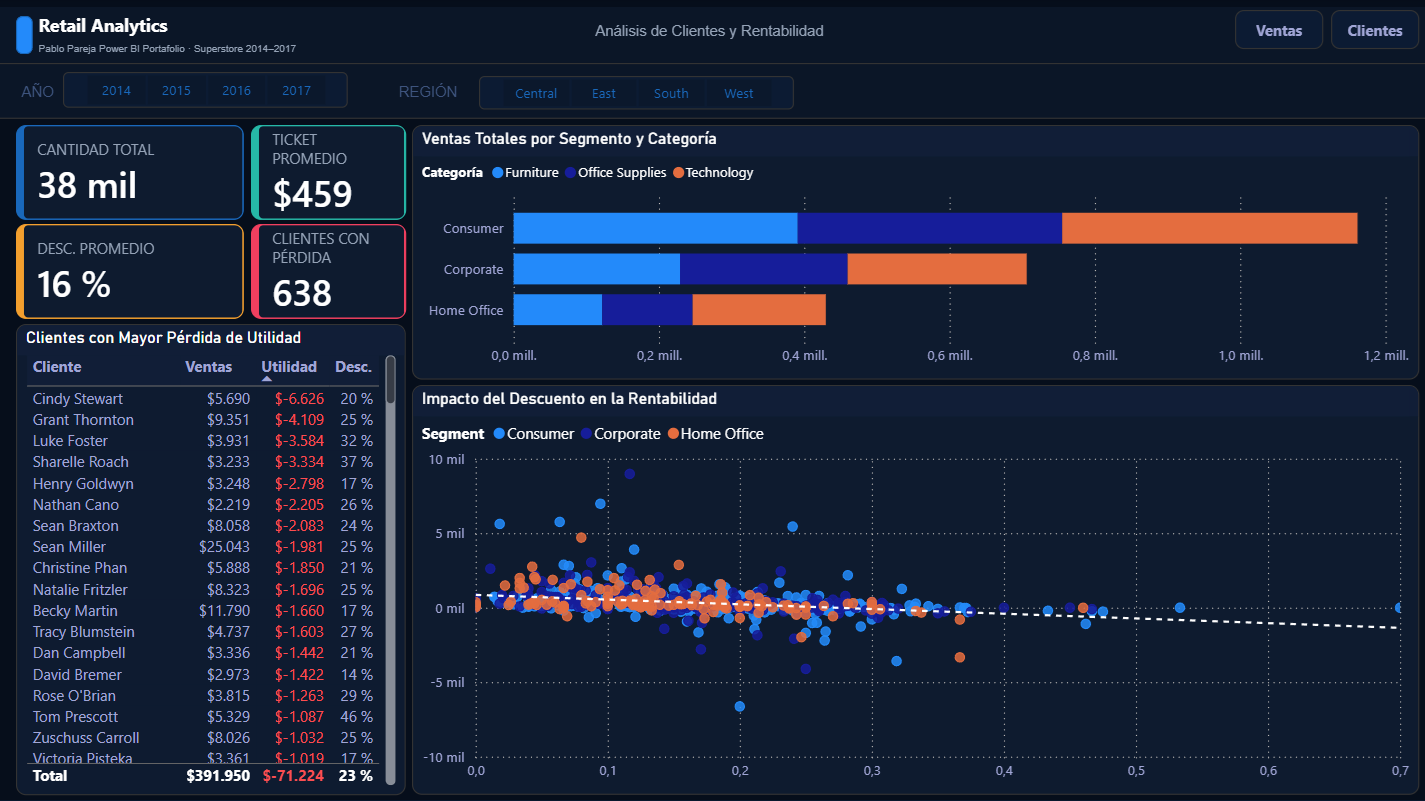

What the dashboard file says about the page in this screenshot:
{"tool":"powerbi","page":{"name":"Análisis de Clientes","canvas":[1280,720],"ordinal":2},"visuals":[{"type":"group","id":"g1","title":"Grupo 1","box":[0,0,1279.7,720],"z":0},{"type":"shape","box":[0,0,1279.7,720],"z":0,"group":"g1"},{"type":"shape","box":[0,7.8,1280,50],"z":1000},{"type":"actionButton","title":"Ventas","box":[1107.8,10.7,78.8,34.9],"z":2000},{"type":"shape","box":[0,7.8,1280,50],"z":2500,"group":"g1"},{"type":"actionButton","title":"Ventas","box":[1193.7,10.7,78.8,34.9],"z":3000},{"type":"shape","box":[0,57.8,1280,50],"z":4000},{"type":"textbox","box":[31.1,7.8,140,50],"z":5000},{"type":"slicer","fields":{"Values":["DimCalendario.Año"]},"box":[58.2,66.3,255.2,32.2],"z":6000},{"type":"slicer","fields":{"Values":["DimRegion.Region"]},"box":[430.7,69.9,282.1,30.4],"z":7000},{"type":"textbox","box":[0,70,71.1,31.1],"z":8000},{"type":"shape","box":[15.8,15.8,15,34.2],"z":9000},{"type":"textbox","box":[459.4,15.2,355.5,34.9],"z":10000},{"type":"textbox","box":[344.8,69.9,80.6,31.3],"z":11000},{"type":"scatterChart","title":"Impacto del Descuento en la Rentabilidad","fields":{"X":["_Medidas.Descuento Promedio"],"Y":["_Medidas.Utilidad Bruta"],"Category":["DimCliente.Customer Name"],"Series":["DimCliente.Segment"]},"box":[370.7,346.6,901.8,367.2],"z":14000},{"type":"tableEx","title":"Clientes con Mayor Pérdida de Utilidad","fields":{"Values":["DimCliente.Customer Name","_Medidas.Ventas Totales","_Medidas.Utilidad Bruta","_Medidas.Descuento Promedio"]},"box":[16.1,291.9,349.3,421.8],"z":15000},{"type":"cardVisual","fields":{"Data":["_Medidas.Cantidad Total"]},"box":[16.1,113.7,204.2,85.1],"z":16000},{"type":"cardVisual","fields":{"Data":["_Medidas.Ticket Promedio"]},"box":[226.6,113.7,138.8,85.1],"z":17000},{"type":"cardVisual","fields":{"Data":["_Medidas.Clientes con Pérdida"]},"box":[226.6,202.4,138.8,85.1],"z":18000},{"type":"cardVisual","fields":{"Data":["_Medidas.Descuento Promedio"]},"box":[16.1,202.4,204.2,85.1],"z":19000},{"type":"barChart","fields":{"Category":["DimCliente.Segment"],"Y":["_Medidas.Ventas Totales"],"Series":["DimProducto.Category"]},"box":[370.7,113.7,901.8,228.4],"z":20000}]}

Visuals, with their boxes in screenshot pixels (x1, y1, x2, y2), scaled from the page's 1280x720 canvas onto the 1425x801 screenshot:
"Grupo 1" group: {"left": 0, "top": 0, "right": 1424, "bottom": 800}
shape: {"left": 0, "top": 0, "right": 1424, "bottom": 800}
shape: {"left": 0, "top": 9, "right": 1424, "bottom": 64}
"Ventas" actionButton: {"left": 1233, "top": 12, "right": 1321, "bottom": 51}
shape: {"left": 0, "top": 9, "right": 1424, "bottom": 64}
"Ventas" actionButton: {"left": 1329, "top": 12, "right": 1417, "bottom": 51}
shape: {"left": 0, "top": 64, "right": 1424, "bottom": 120}
textbox: {"left": 35, "top": 9, "right": 190, "bottom": 64}
slicer - DimCalendario.Año: {"left": 65, "top": 74, "right": 349, "bottom": 110}
slicer - DimRegion.Region: {"left": 479, "top": 78, "right": 794, "bottom": 112}
textbox: {"left": 0, "top": 78, "right": 79, "bottom": 112}
shape: {"left": 18, "top": 18, "right": 34, "bottom": 56}
textbox: {"left": 511, "top": 17, "right": 907, "bottom": 56}
textbox: {"left": 384, "top": 78, "right": 474, "bottom": 113}
"Impacto del Descuento en la Rentabilidad" scatterChart: {"left": 413, "top": 386, "right": 1417, "bottom": 794}
"Clientes con Mayor Pérdida de Utilidad" tableEx: {"left": 18, "top": 325, "right": 407, "bottom": 794}
cardVisual - _Medidas.Cantidad Total: {"left": 18, "top": 126, "right": 245, "bottom": 221}
cardVisual - _Medidas.Ticket Promedio: {"left": 252, "top": 126, "right": 407, "bottom": 221}
cardVisual - _Medidas.Clientes con Pérdida: {"left": 252, "top": 225, "right": 407, "bottom": 320}
cardVisual - _Medidas.Descuento Promedio: {"left": 18, "top": 225, "right": 245, "bottom": 320}
barChart - DimCliente.Segment x _Medidas.Ventas Totales: {"left": 413, "top": 126, "right": 1417, "bottom": 381}
